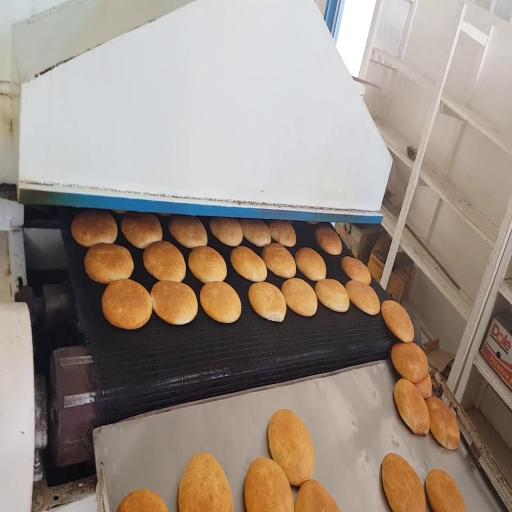bread: (268, 410, 314, 486), (178, 453, 233, 511), (245, 458, 294, 511), (382, 454, 426, 511), (102, 280, 152, 329), (151, 281, 197, 325), (394, 379, 429, 435), (85, 244, 133, 283), (71, 210, 118, 248), (426, 397, 460, 449), (200, 282, 241, 323), (143, 241, 185, 281), (426, 470, 465, 511), (391, 342, 428, 383), (249, 282, 286, 322), (121, 212, 162, 248), (295, 480, 339, 511), (189, 247, 226, 283), (282, 278, 317, 316), (382, 301, 414, 342), (231, 246, 267, 282), (169, 216, 207, 248), (345, 281, 380, 315), (262, 243, 296, 278), (315, 279, 349, 312), (295, 247, 326, 281), (118, 490, 168, 511), (210, 218, 243, 246), (342, 256, 371, 284), (315, 225, 342, 255), (240, 220, 271, 246), (268, 220, 296, 247), (415, 375, 432, 399), (113, 210, 126, 214), (306, 221, 318, 224), (158, 213, 170, 216)
